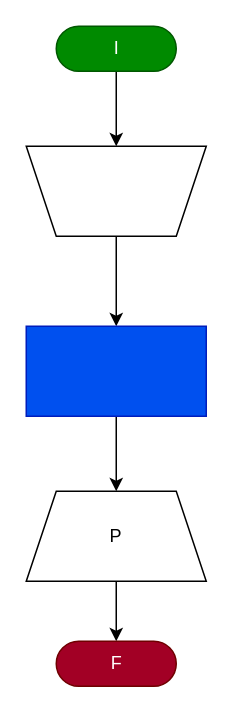
The diagram is 233 pixels wide and 713 high, and some of its shapes have lost their labels. The shapes that lost their labels are listed below. From the top down, each one's centre as x and y in pixels, then its label:
At pixel 115 190: "N1,N2,N3".
At pixel 115 370: "P = (N1+N2+N3)/3".
